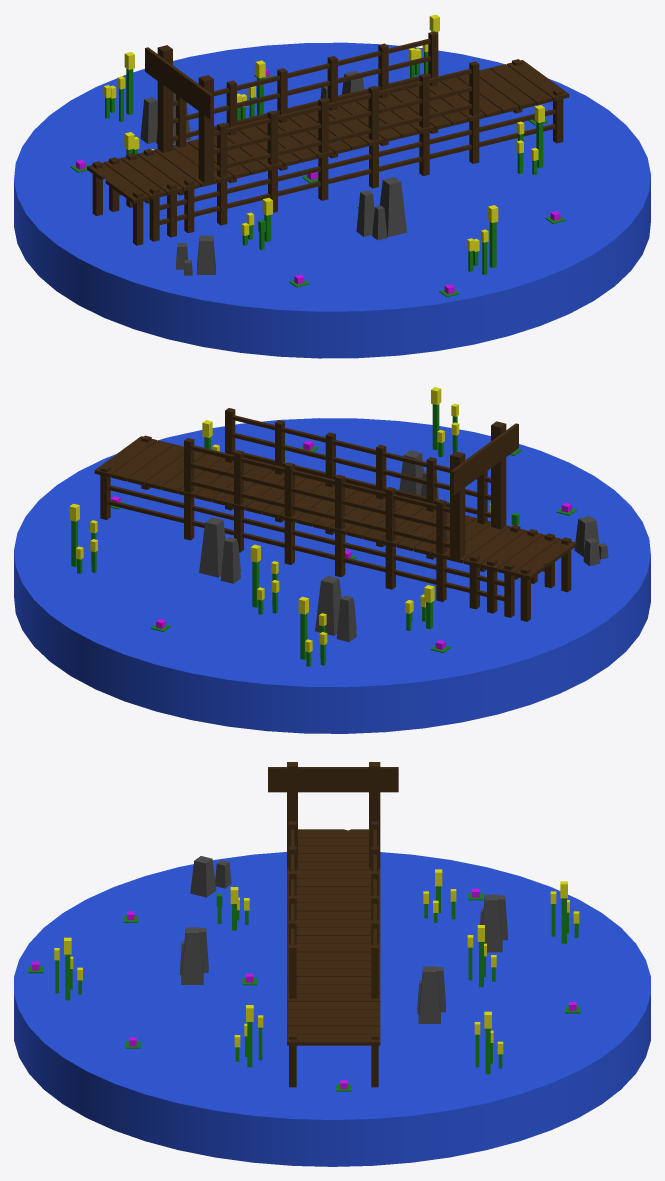
File: Reaver.fbx
The picture shows the model from 3 angles, top to bottom: view 1: azimuth 30°, elevation 25°; view 2: azimuth 150°, elevation 25°; view 3: azimuth 270°, elevation 25°; orthographic projection.
Parts seen in each view (by area): view 1: Cylinder001, Box074, Box070, Box050, Box041, Box048, Box049, Box047, Box037, Box080, Box038, Box039 (+38 smaller); view 2: Cylinder001, Box075, Box050, Box071, Box039, Box005, Box038, Box037, Box047, Box148, Box048, Box049 (+43 smaller); view 3: Cylinder001, Box050, Box080, Box148, Box031, Box037, Box110, Box143, Box047, Box027, Box028, Box029 (+21 smaller).
Part boxes in pixels (x1,y1,x2,y2): Cylinder001: [14, 42, 650, 358]; Box074: [159, 109, 555, 210]; Box070: [159, 124, 555, 224]; Box050: [145, 47, 213, 119]; Box041: [214, 103, 471, 171]; Box048: [214, 86, 471, 153]; Box049: [214, 69, 471, 136]; Box047: [198, 75, 213, 182]; Box037: [157, 45, 172, 152]; Box080: [379, 177, 406, 237]; Box038: [173, 56, 430, 123]; Box039: [173, 38, 430, 106]; Cylinder001: [14, 418, 650, 733]; Box075: [108, 485, 504, 586]; Box050: [450, 423, 518, 495]; Box071: [108, 500, 504, 601]; Box039: [191, 445, 449, 512]; Box005: [191, 480, 449, 547]; Box038: [191, 462, 449, 530]; Box037: [450, 451, 465, 558]; Box047: [491, 421, 506, 528]; Box148: [199, 517, 225, 577]; Box048: [232, 432, 490, 500]; Box049: [232, 415, 490, 482]; Cylinder001: [14, 852, 650, 1166]; Box050: [268, 767, 398, 792]; Box080: [181, 927, 203, 984]; Box148: [418, 966, 440, 1023]; Box031: [287, 1034, 380, 1045]; Box037: [369, 762, 380, 868]; Box110: [482, 894, 502, 952]; Box143: [190, 856, 216, 897]; Box047: [287, 762, 297, 868]; Box027: [287, 1001, 380, 1009]; Box028: [287, 1009, 380, 1017]; Box029: [287, 1018, 380, 1026].
Size of the model in its own units: 171 by 57.93 by 170.
